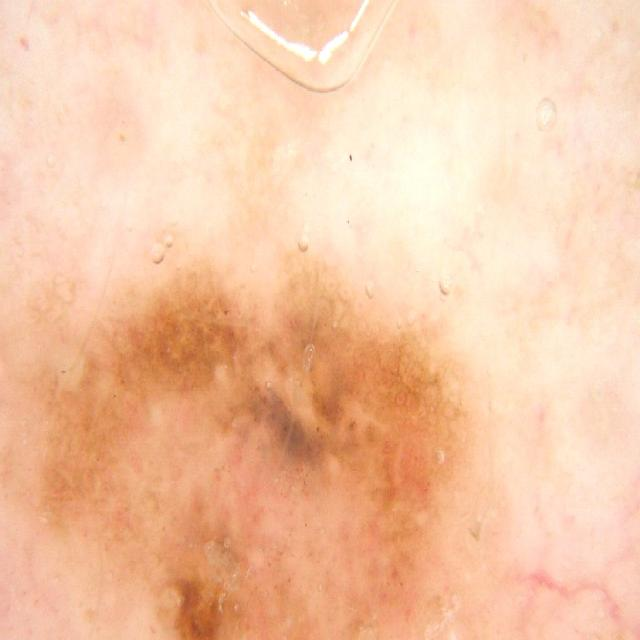Melanoma: (26, 222, 472, 640)
